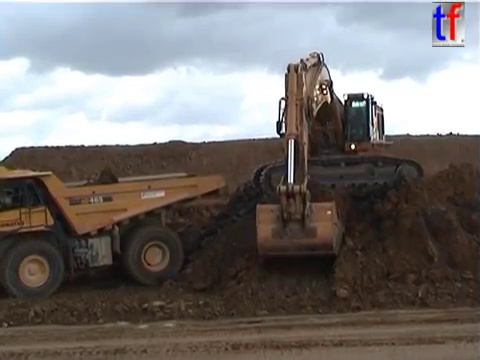excavator: (249, 49, 427, 259)
truck: (1, 162, 227, 301)
